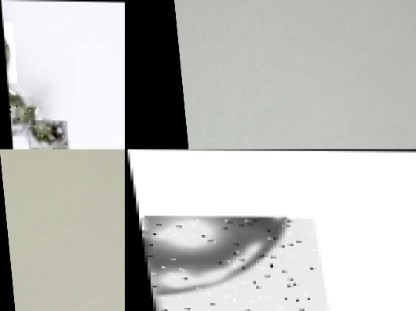ironball: (136, 218, 320, 311), (25, 120, 65, 149), (6, 96, 32, 136), (1, 21, 14, 83)
